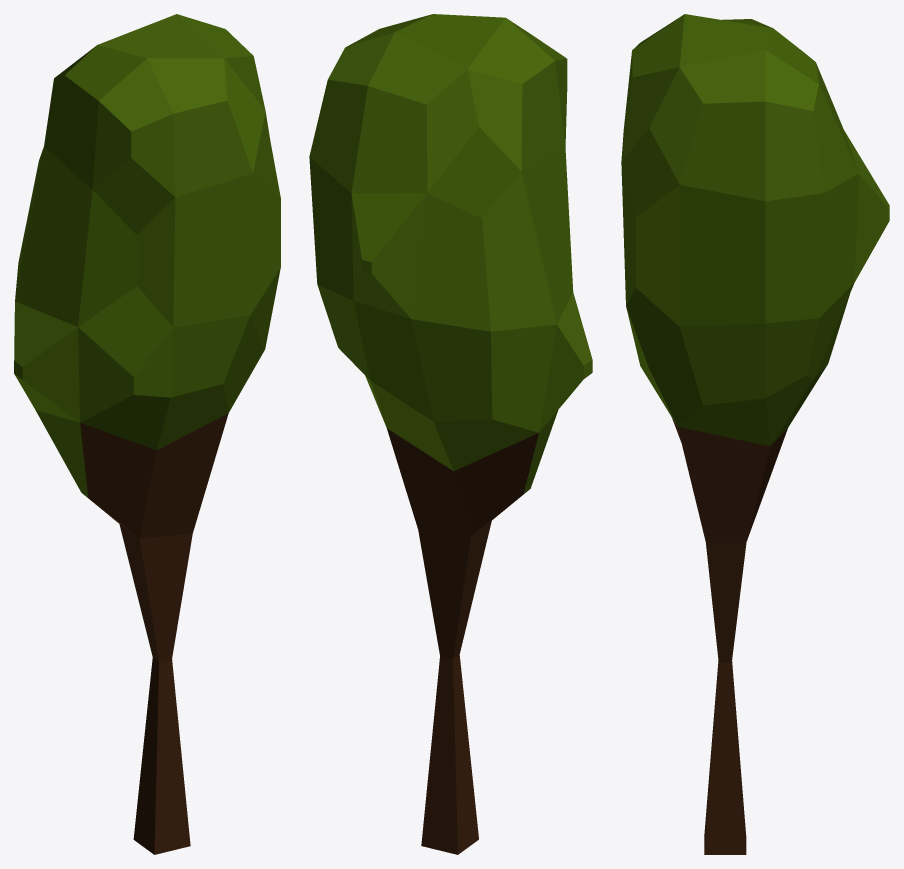
File: obj_tree3.fbx
3 views of the same model, side by side, from view 1: azimuth 30°, elevation 25°; view 2: azimuth 150°, elevation 25°; view 3: azimuth 270°, elevation 25° (orthographic).
Parts seen in each view (by area): view 1: Obj_tree6; view 2: Obj_tree6; view 3: Obj_tree6.
Boxes of the visible parts, x1,y1,x2,y2 form: Obj_tree6: (14,14,280,854); Obj_tree6: (309,14,592,854); Obj_tree6: (621,14,889,854).
Bounding box in the file's own units: 244 × 764 × 228.
